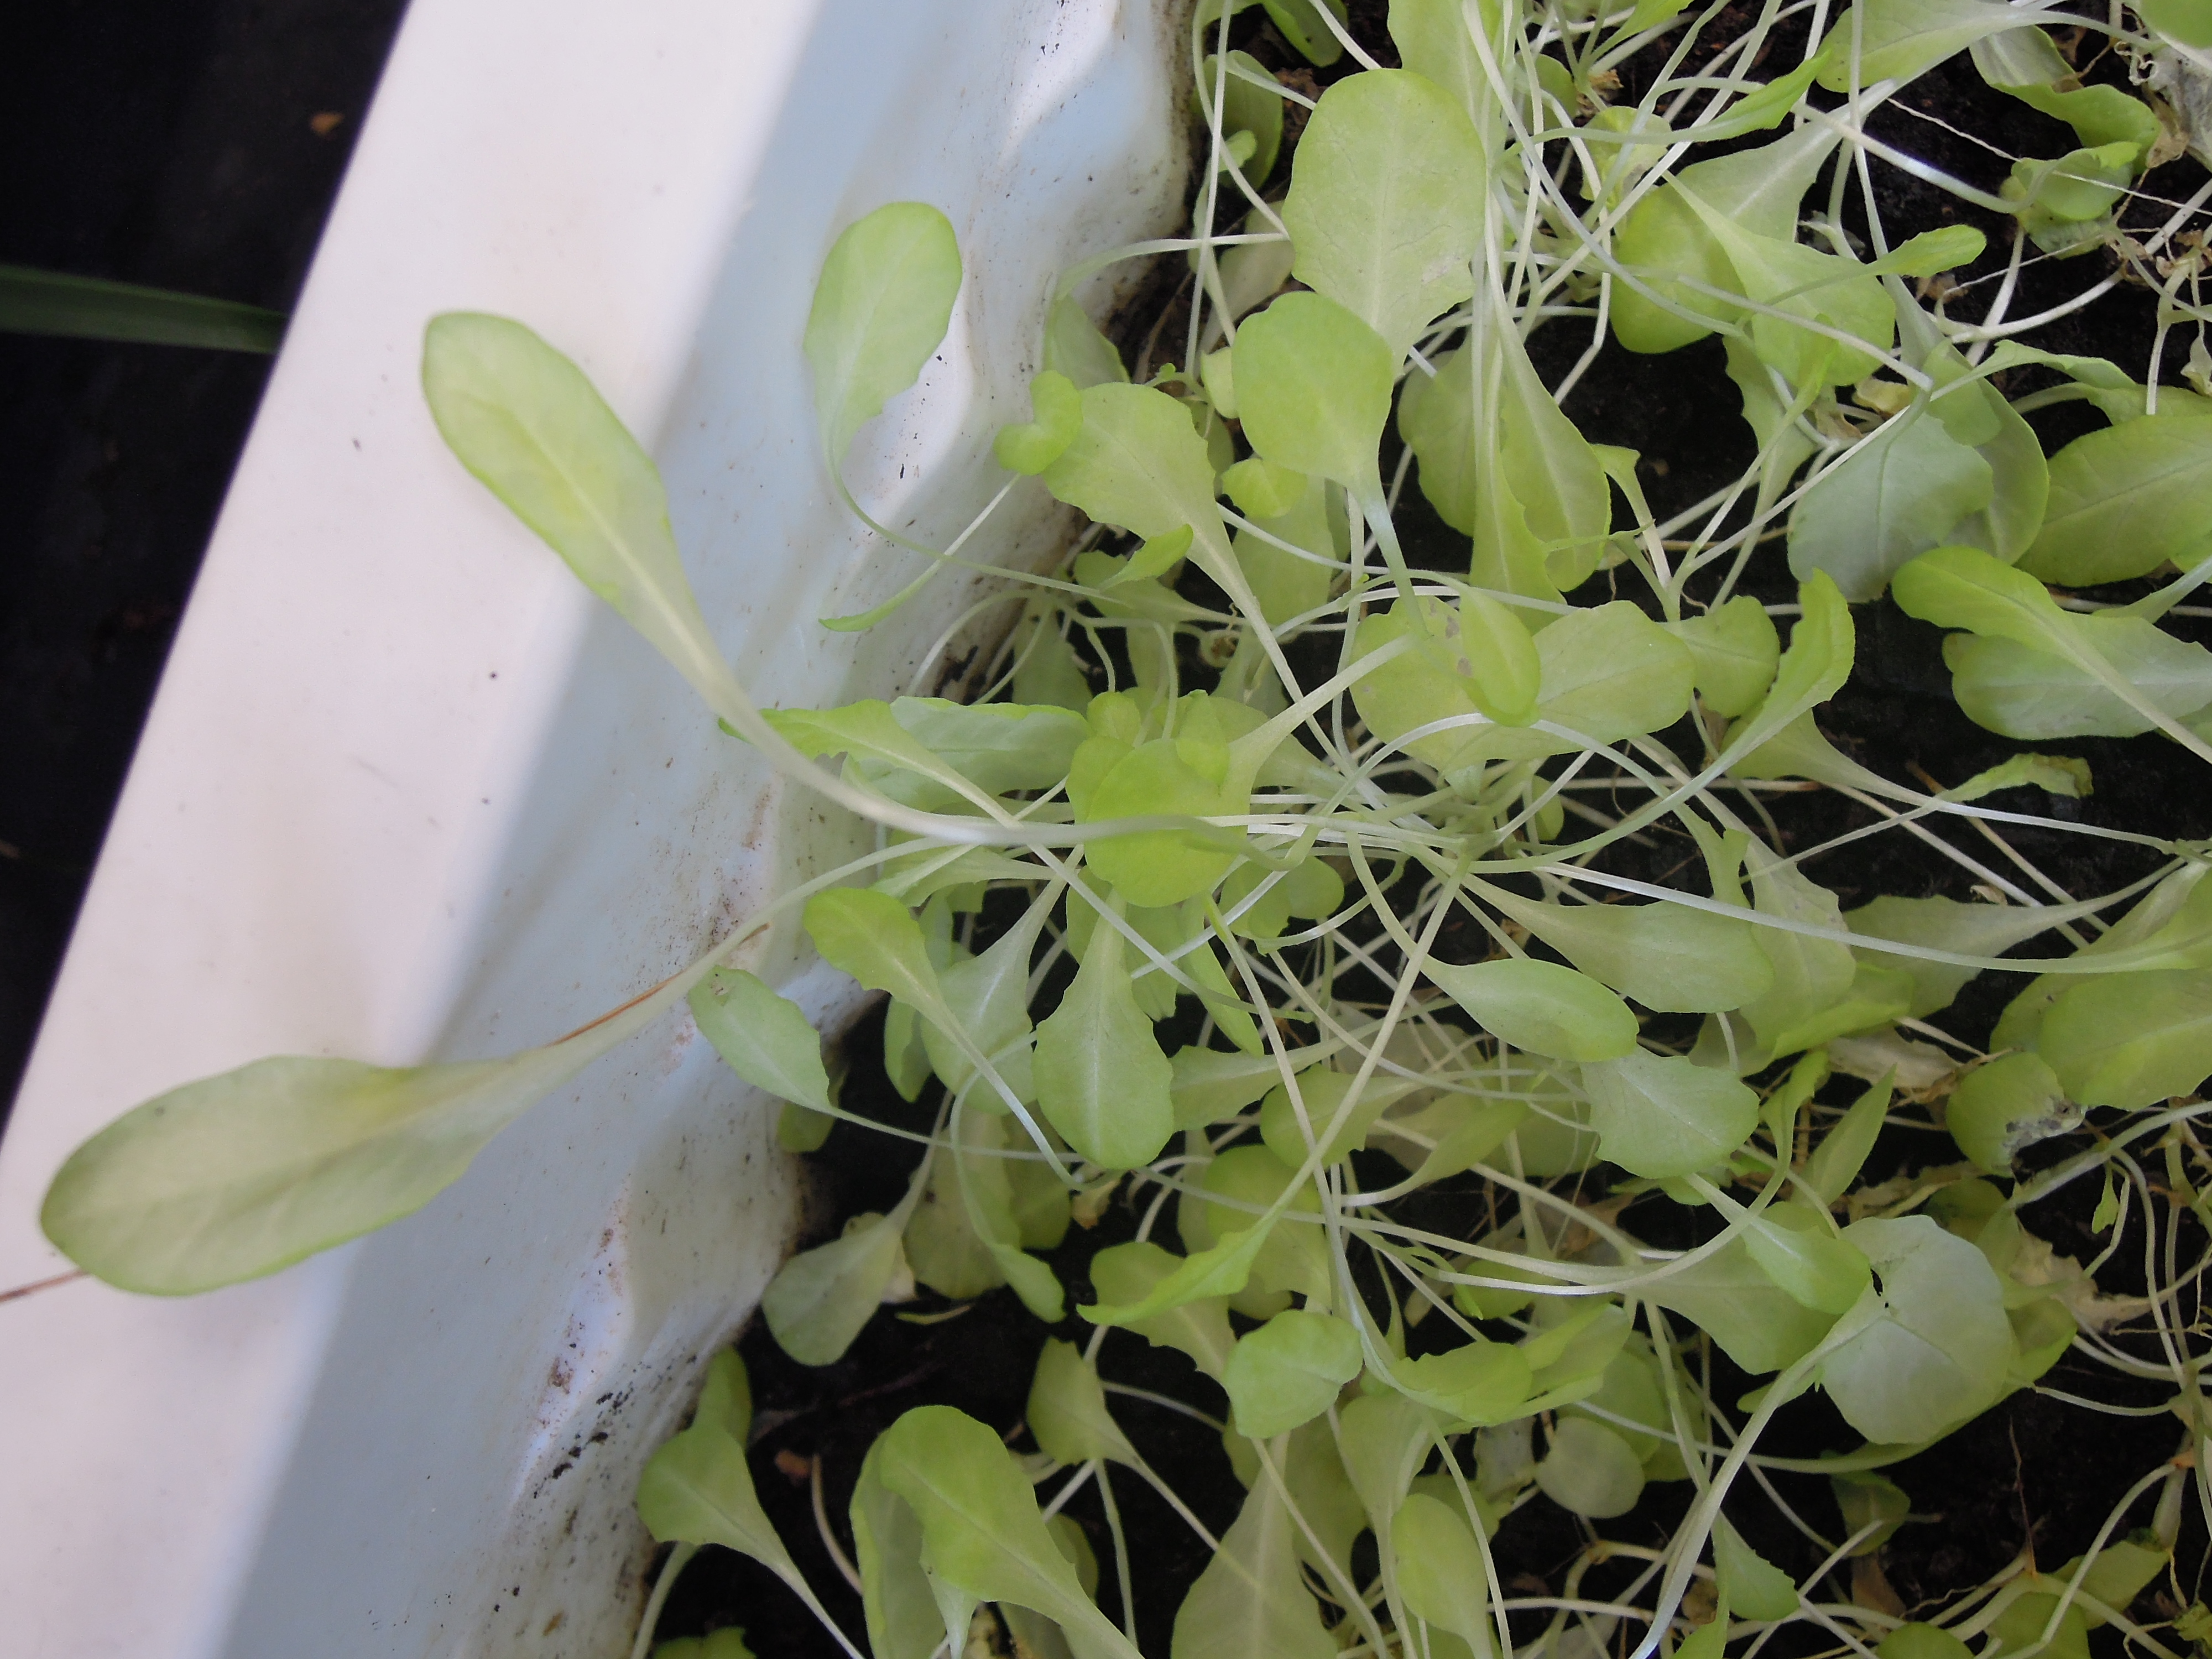weeek6: (40, 169, 1886, 1316)
